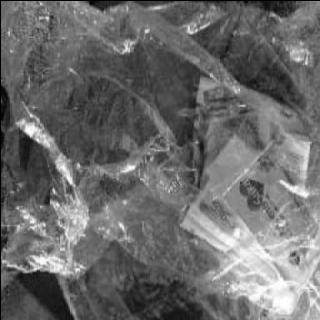objects: (9, 13, 317, 286)
